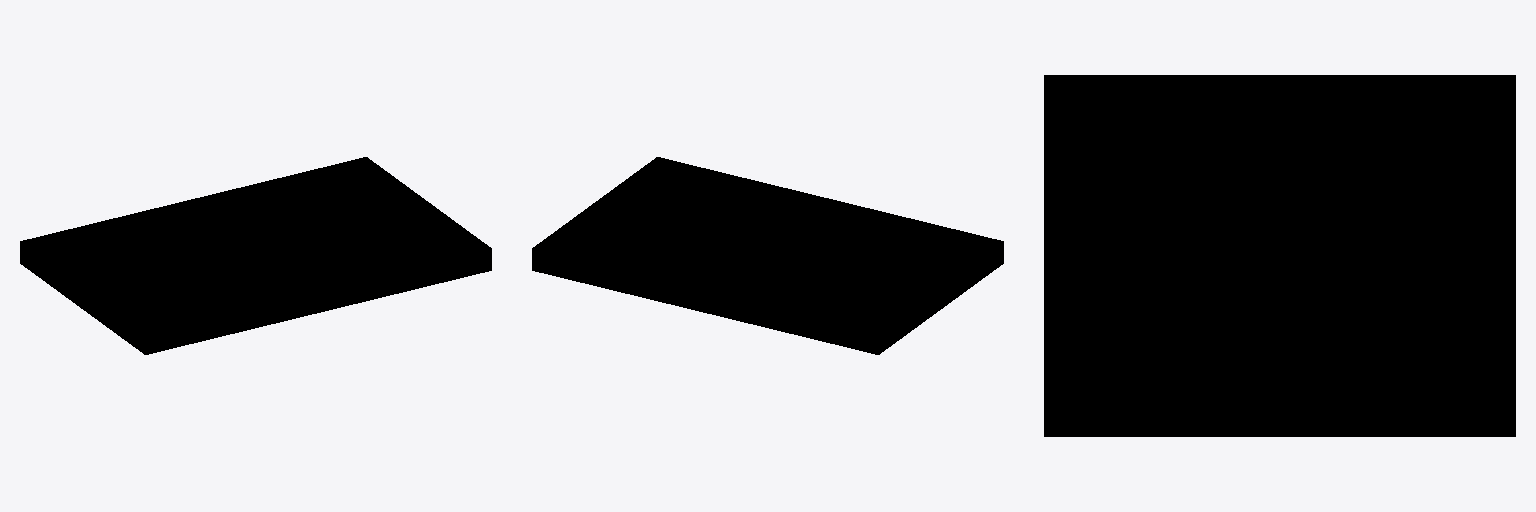
The robot description file, URDF, robot "boundary":
<?xml version="1.0" ?>
<robot name="boundary">
  <link name="baseLink">
     <contact>
      <lateral_friction value="1"/>
  </contact>
    <inertial>
      <origin rpy="0 0 0" xyz="0 0 0"/>
       <mass value="1.0"/>
       <inertia ixx="100" ixy="0" ixz="0" iyy="100" iyz="0" izz="100"/>
    </inertial>
    <visual>
      <origin rpy="0 0 0" xyz="0 0 0"/>
      <geometry>
				<mesh filename="boundary_long.obj" scale="1 1 1"/>
      </geometry>
       <material name="black">
        <color rgba="0 0 0 1"/>
      </material>
    </visual>
    <collision group="0" mask="0">
      <origin rpy="0 0 0" xyz="0 0 0"/>
      <geometry>
	 	<box size="16 10 1"/>
      </geometry>
    </collision>
  </link>
</robot>

--- What the picture shows (computed from the rendered views, not written in the file) ---
The picture shows the robot from 3 angles, left to right: view 1: azimuth 30°, elevation 25°; view 2: azimuth 150°, elevation 25°; view 3: azimuth 270°, elevation 25°; orthographic projection.
Robot: boundary — 1 links, 0 joints (none); root link baseLink; default pose: every joint at zero.
Visible links, largest first — view 1: baseLink; view 2: baseLink; view 3: baseLink.
Link boxes in pixels (left/top/right/bottom): baseLink: left=20, top=157, right=491, bottom=354; baseLink: left=532, top=157, right=1003, bottom=354; baseLink: left=1044, top=75, right=1515, bottom=436.
Size in the robot's own frame: 16 by 10 by 1 metres.
1 mesh visuals loaded from 1 distinct referenced files (1 OBJ).
